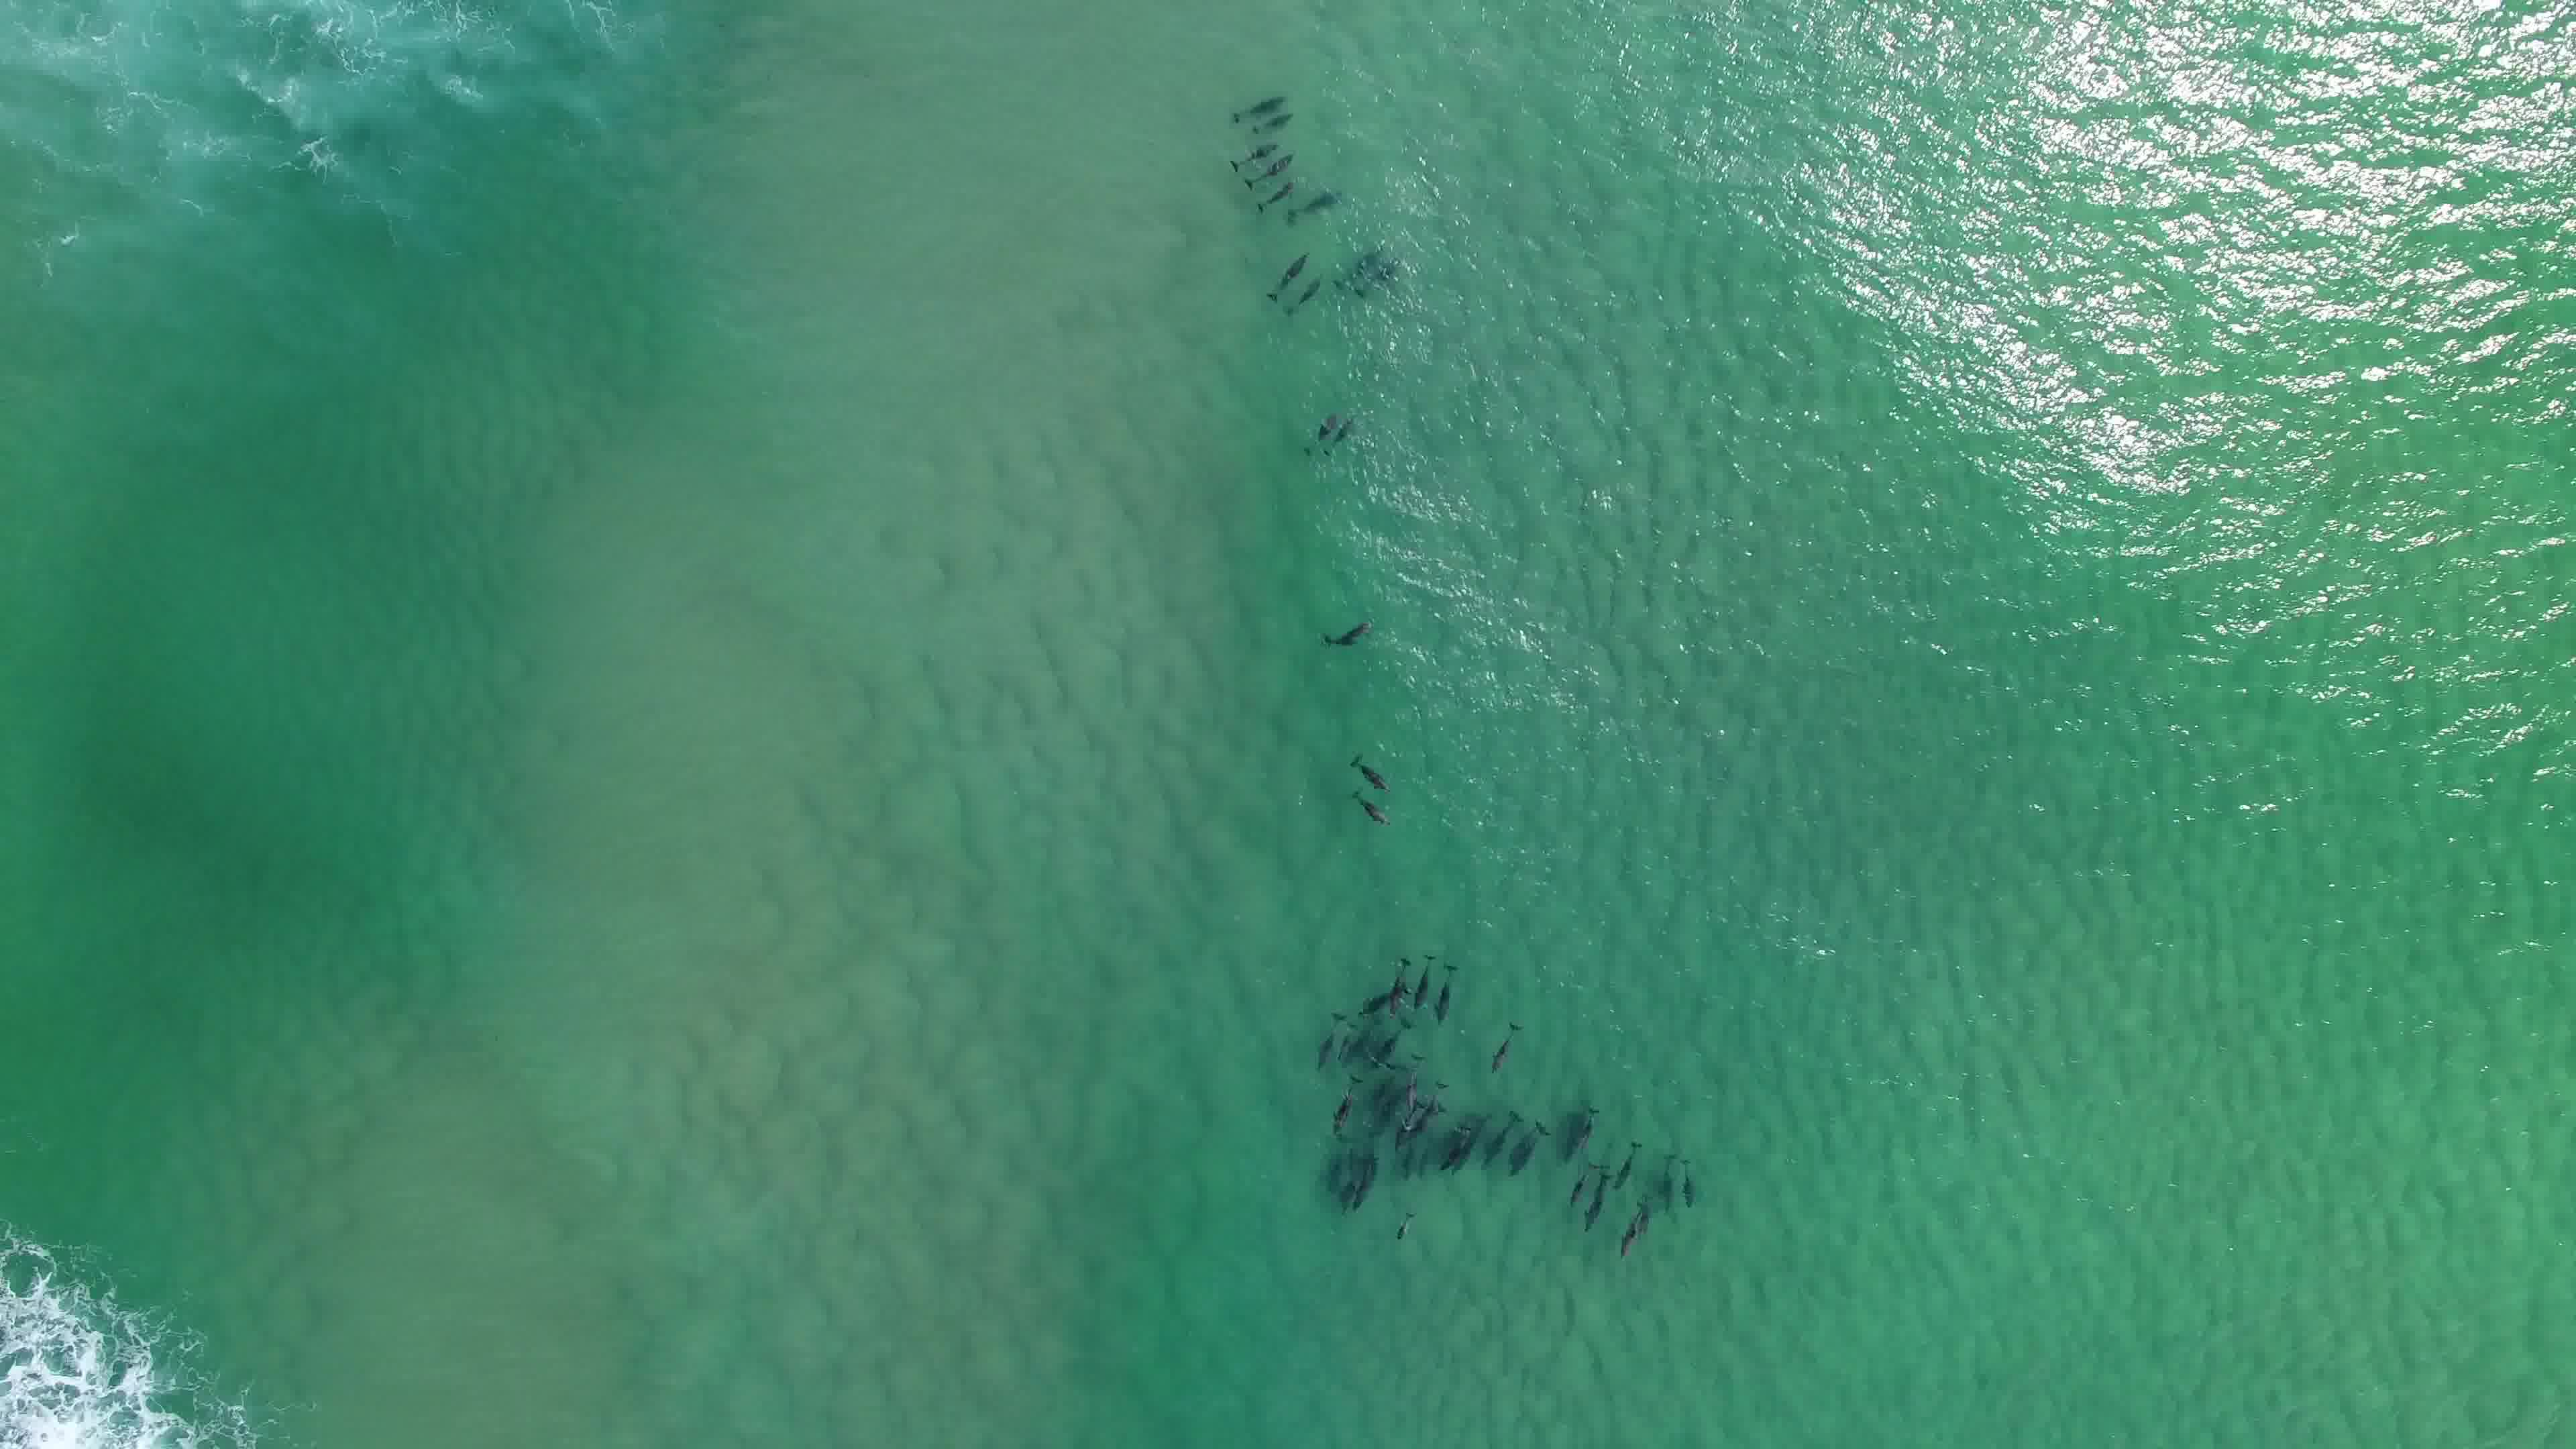dolphin: (1336, 743, 1403, 803), (1254, 242, 1309, 304), (1316, 605, 1378, 660), (1336, 782, 1391, 844), (1504, 1118, 1555, 1180), (1313, 1005, 1352, 1081), (1562, 1102, 1606, 1162), (1430, 957, 1463, 1035), (1612, 1134, 1652, 1194), (1327, 244, 1382, 288), (1283, 186, 1353, 219), (1484, 1109, 1523, 1169), (1320, 410, 1366, 460), (1283, 258, 1322, 317), (1247, 172, 1307, 209), (1350, 1134, 1382, 1203), (1224, 85, 1288, 119), (1384, 950, 1415, 1016), (1562, 1159, 1601, 1212), (1376, 1021, 1414, 1076), (1449, 1104, 1479, 1169), (1591, 1166, 1614, 1251), (1237, 152, 1300, 182), (1421, 1081, 1456, 1132), (1491, 1019, 1525, 1072), (1410, 954, 1440, 1012), (1398, 1060, 1428, 1118), (1299, 400, 1339, 442), (1361, 982, 1405, 1021), (1219, 134, 1279, 163), (1359, 260, 1399, 301), (1327, 1083, 1355, 1141), (1660, 1150, 1683, 1221), (1621, 1201, 1645, 1265), (1675, 1152, 1702, 1210), (1336, 1143, 1357, 1210), (1249, 106, 1302, 133), (1392, 1207, 1424, 1244), (1640, 1185, 1660, 1242)
